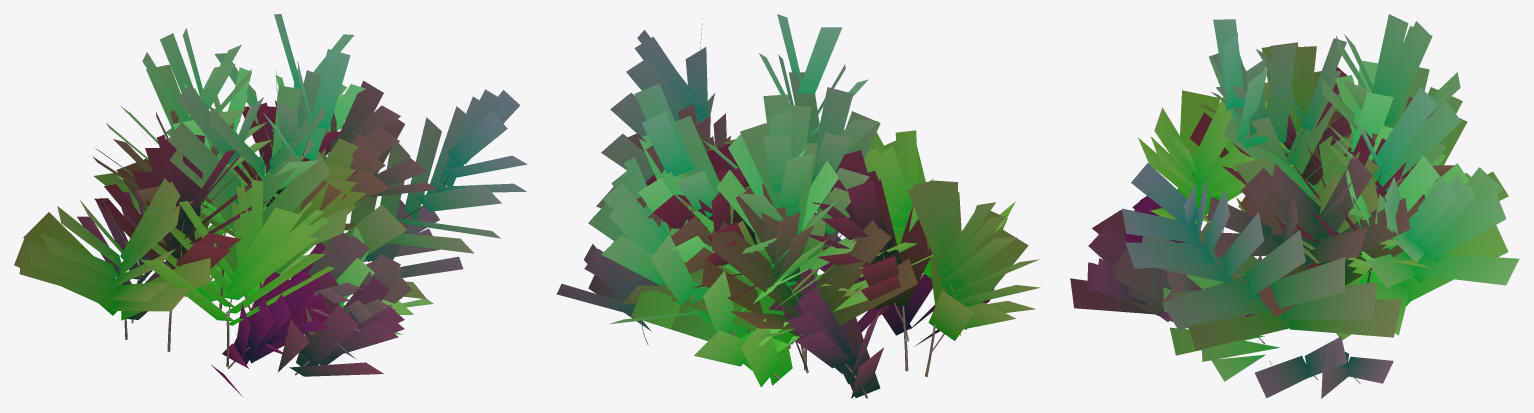
The model's file is Tree_02_LODs.fbx.
3 views of the same model, side by side, from view 1: azimuth 30°, elevation 25°; view 2: azimuth 150°, elevation 25°; view 3: azimuth 270°, elevation 25° (orthographic). The views are drawn at different scales.
Parts seen in each view (by area): view 1: Tree_02_LOD00; view 2: Tree_02_LOD00; view 3: Tree_02_LOD00.
Part boxes in pixels (<box>): Tree_02_LOD00: <box>14,14,527,396</box>; Tree_02_LOD00: <box>557,14,1040,398</box>; Tree_02_LOD00: <box>1070,14,1519,398</box>.
Size of what is drawn, in the model's own units: 427 by 268 by 350.
